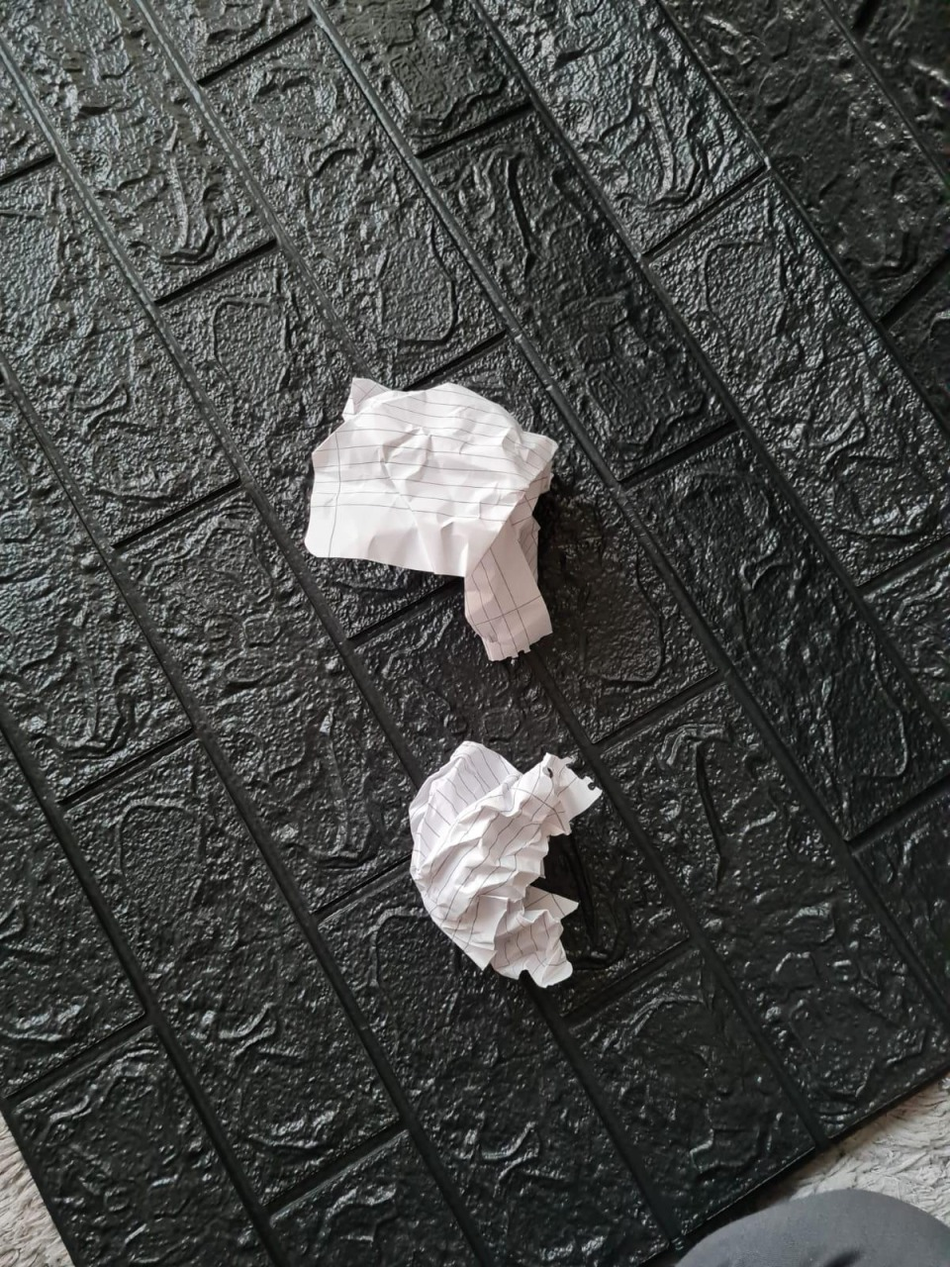paper: (313, 375, 565, 650), (402, 732, 607, 985)
